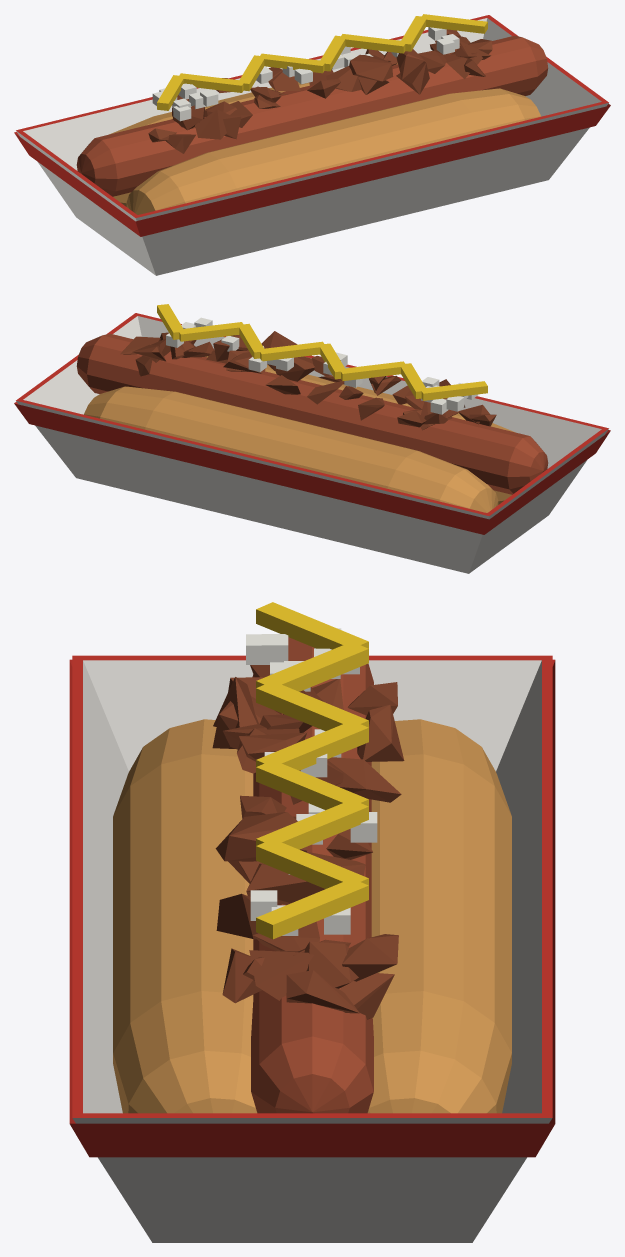
Rendered from item-chili-dog.glb.
The picture shows the model from 3 angles, top to bottom: view 1: azimuth 30°, elevation 25°; view 2: azimuth 150°, elevation 25°; view 3: azimuth 270°, elevation 25°; orthographic projection. The views are drawn at different scales.
Visible parts, largest first — view 1: chiliDog; view 2: chiliDog; view 3: chiliDog.
Boxes of the visible parts, x1,y1,x2,y2 form: chiliDog: [14, 14, 610, 275]; chiliDog: [14, 304, 610, 573]; chiliDog: [69, 602, 555, 1242].
Bounding box in the file's own units: 0.2058 × 0.0595 × 0.0911.
